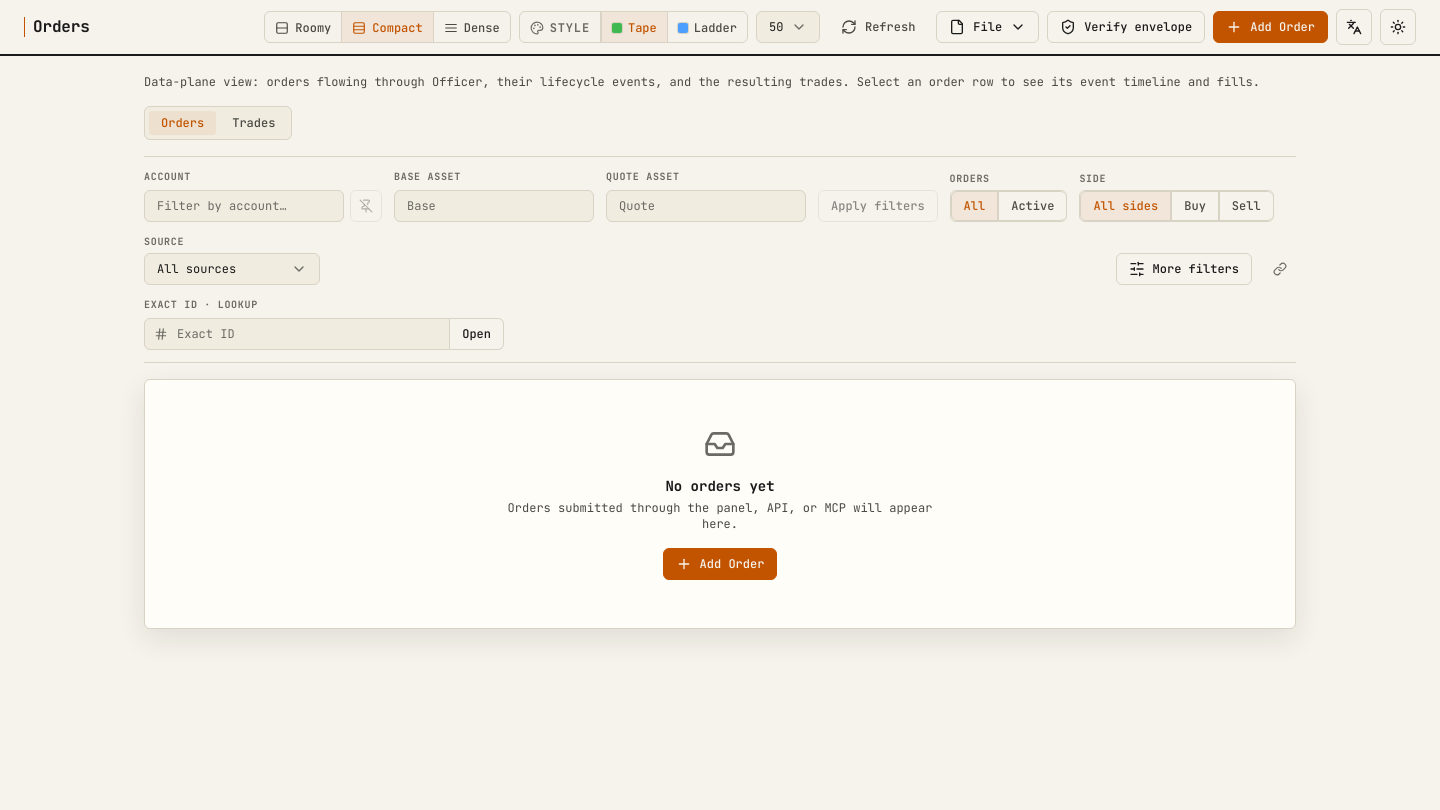
Orders account pre-fill › suggests accounts and assets inside the add order dialog
Click the button "Add Order" in the row of "Style".
click(1271, 27)  # box [1213, 11, 1328, 43]
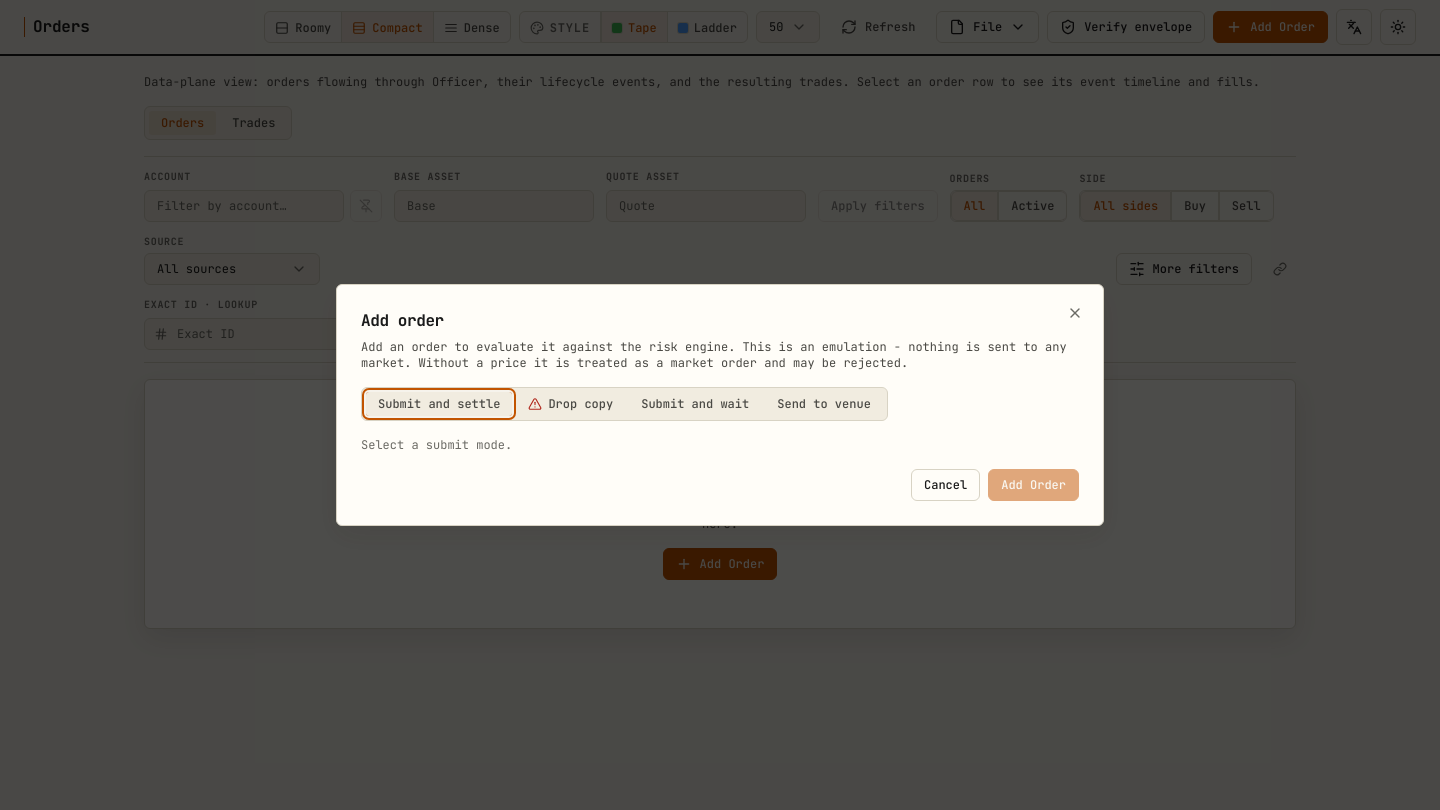
Click the tab "Submit and settle".
click(439, 404)  # box [366, 392, 512, 416]
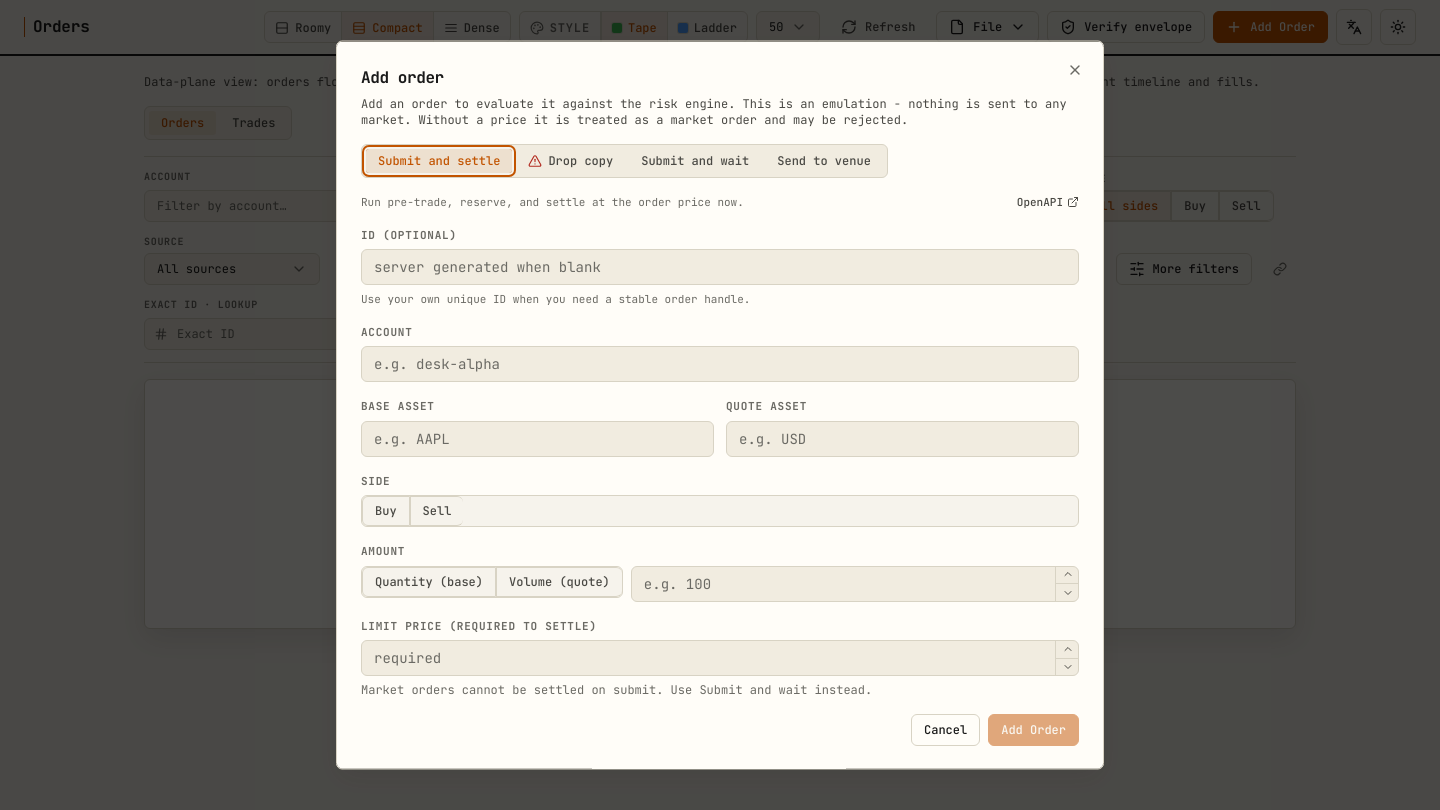
Type "desk" into the dropdown labelled "Account".
click(720, 364); type("desk")  # box [361, 346, 1079, 382]
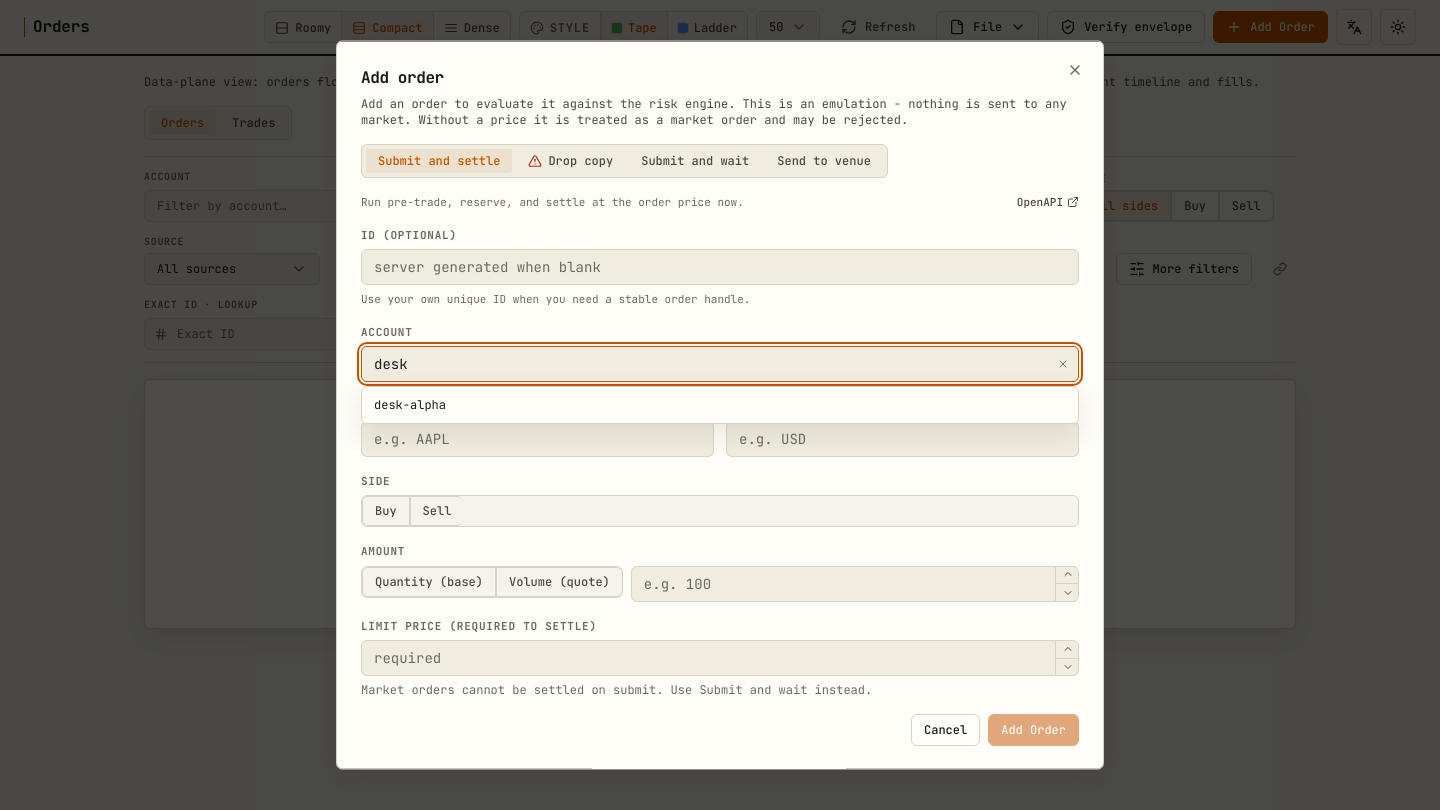
Check: the option "desk-alpha" is shown, box [374, 396, 446, 412]
Type "AA" into the dropdown labelled "Base asset".
click(538, 438); type("AA")  # box [361, 420, 714, 456]
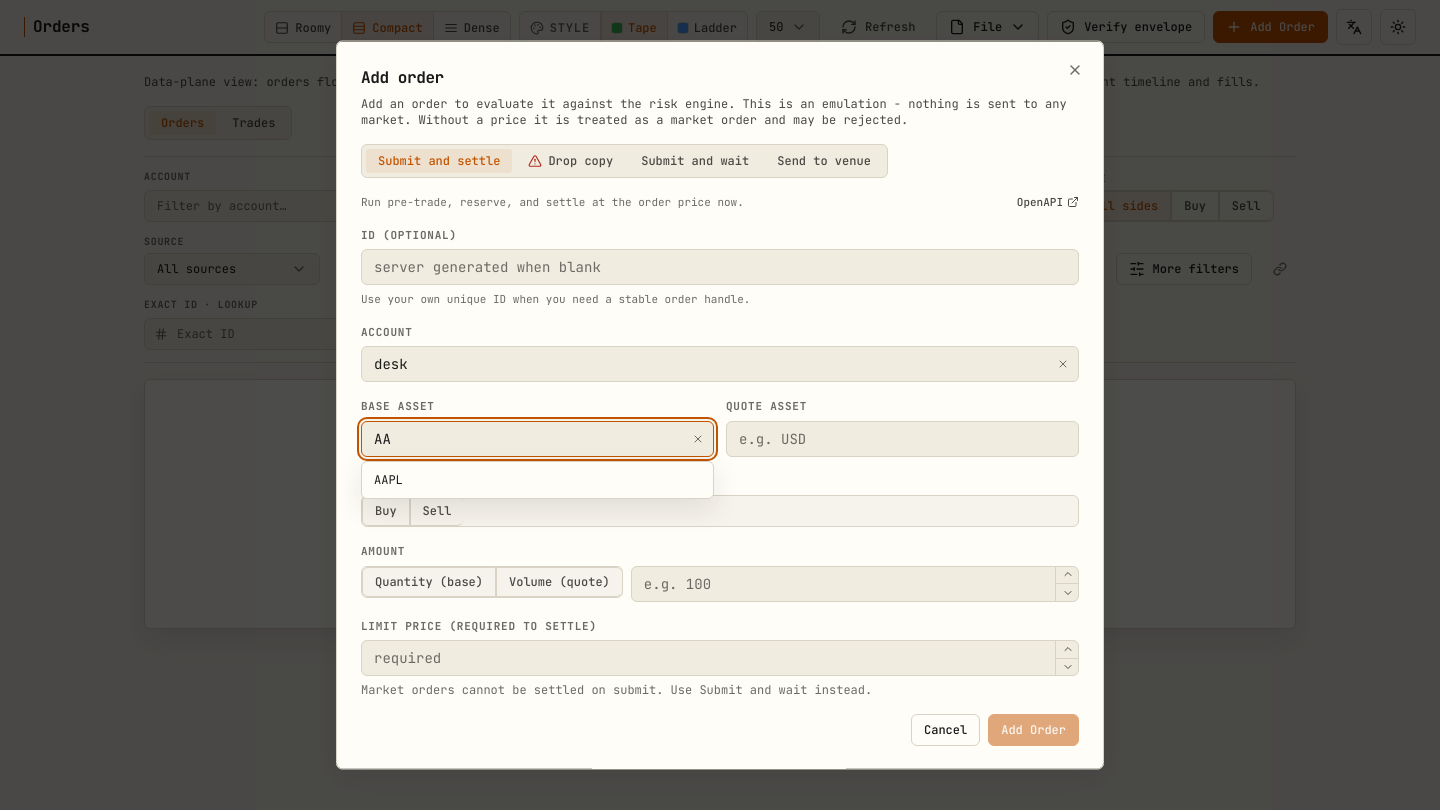
Check: the option "AAPL" is shown, box [374, 471, 403, 487]
Type "US" into the dropdown labelled "Quote asset".
click(902, 438); type("US")  # box [726, 420, 1079, 456]
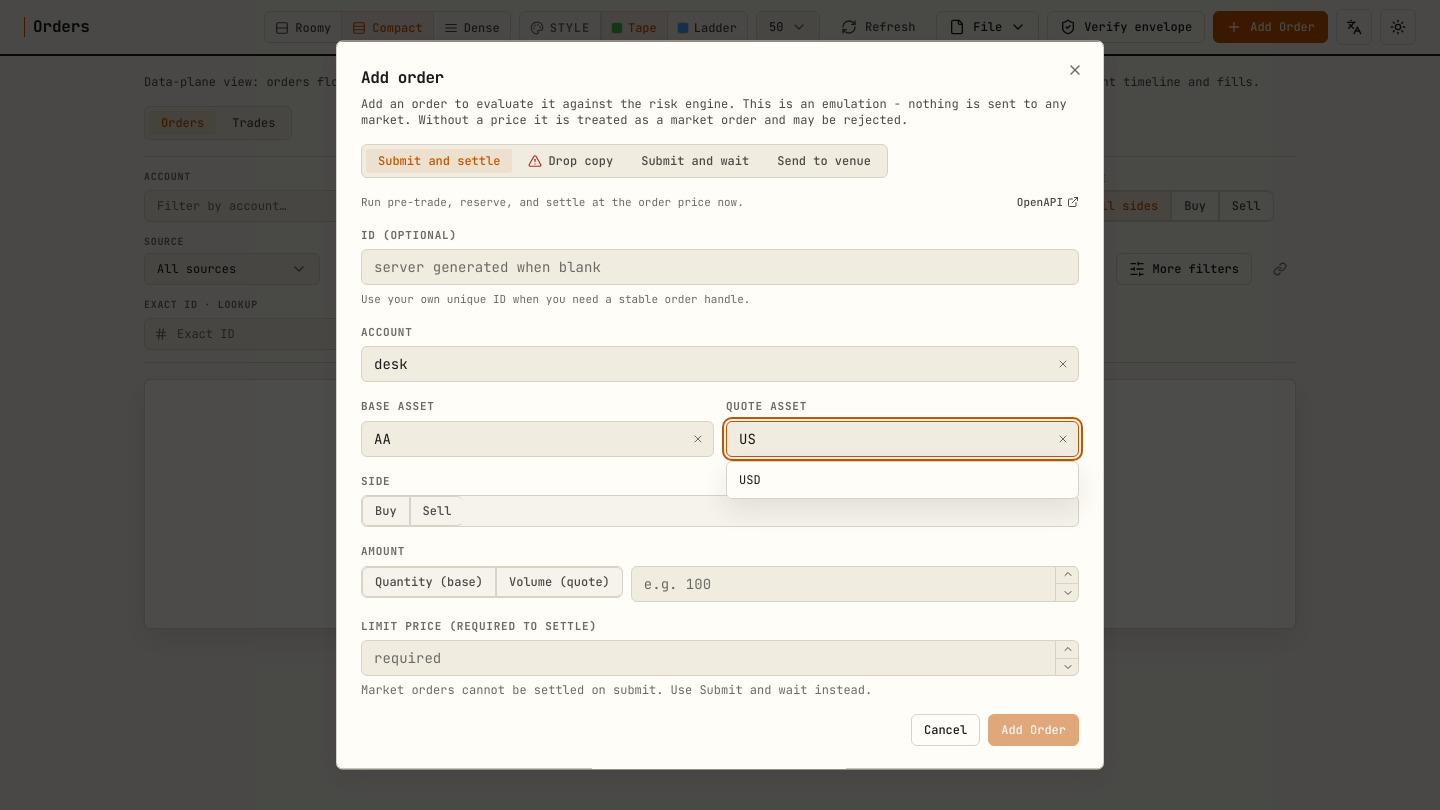
Check: the option "USD" is shown, box [739, 471, 761, 487]
